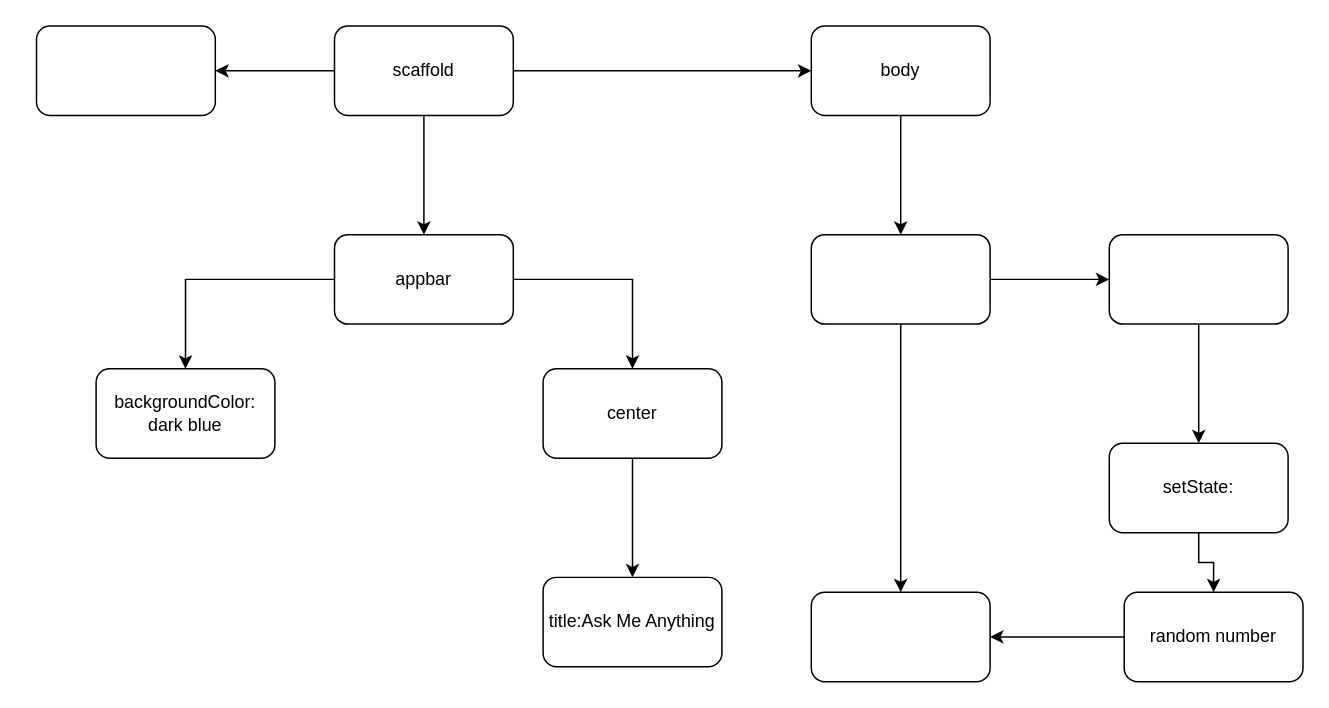
The diagram is 1329 pixels wide and 708 high, and some of its shapes have lost their labels. The box of each missing label's shape, as (x1, y1, x2, y2) in pixels:
backgroundColor:skyblue: (35, 25, 215, 115)
Images: (810, 591, 990, 682)
onpressed: (1108, 233, 1288, 324)
TextButton: (810, 233, 990, 324)
